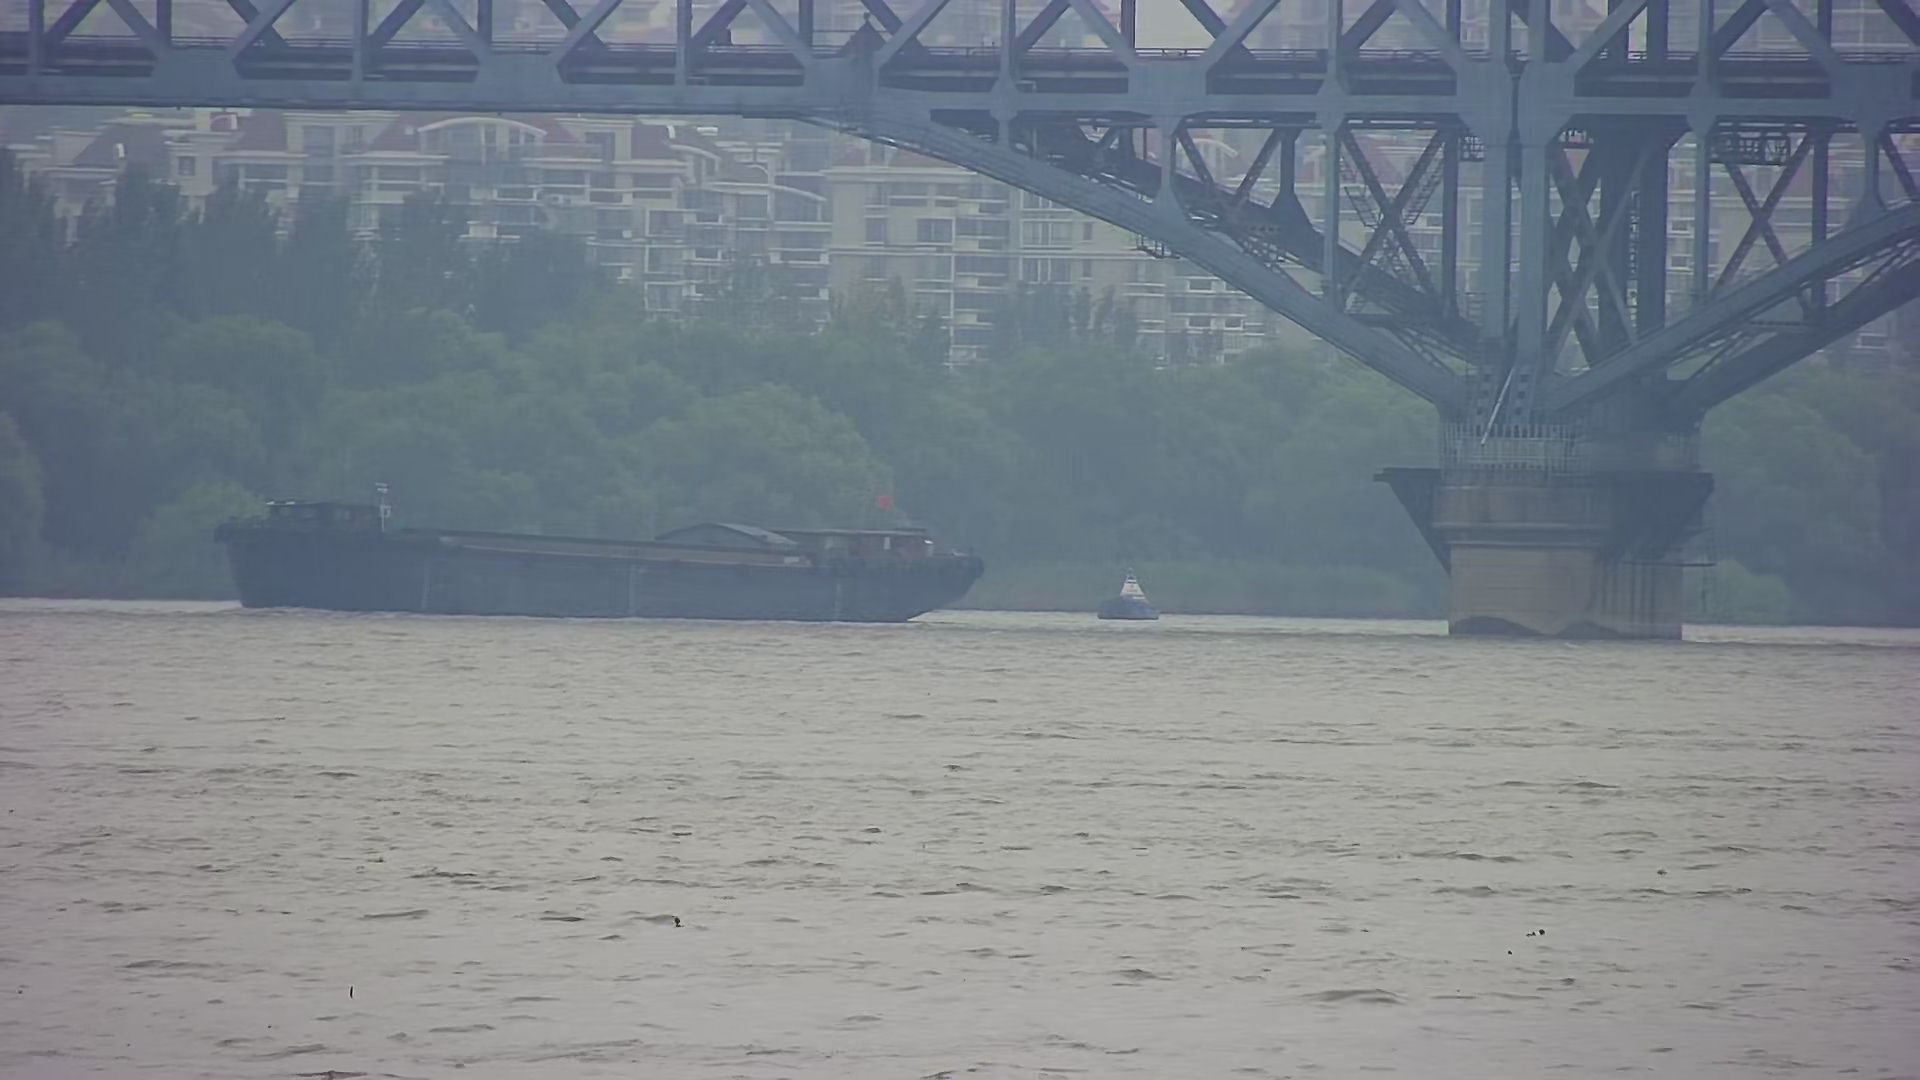boat: (1077, 549, 1180, 638)
bridge: (1, 1, 1913, 651)
ship: (195, 462, 1010, 644)
